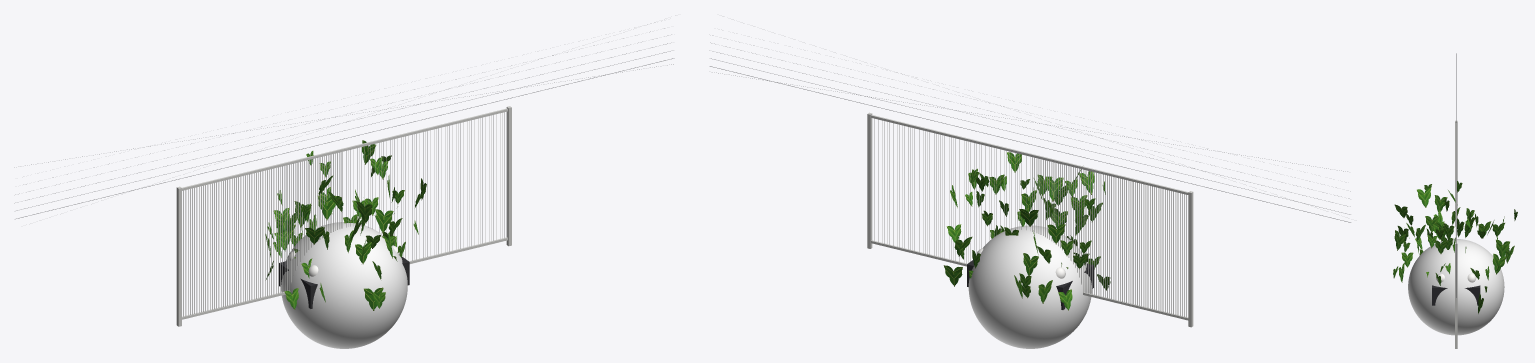
File: temporal_static.gltf
3 views of the same model, side by side, from view 1: azimuth 30°, elevation 25°; view 2: azimuth 150°, elevation 25°; view 3: azimuth 270°, elevation 25° (orthographic). The views are drawn at different scales.
Visible parts, largest first — view 1: fence, sphere_chrome, foliage_a, wires, specular_balls; view 2: fence, sphere_chrome, foliage_a, wires, specular_balls; view 3: sphere_chrome, foliage_a, fence, specular_balls, wires.
Boxes of the visible parts, left/top/right/bottom form: fence: left=176, top=106, right=511, bottom=326; sphere_chrome: left=281, top=222, right=407, bottom=348; foliage_a: left=265, top=140, right=426, bottom=310; wires: left=14, top=22, right=674, bottom=219; specular_balls: left=279, top=245, right=409, bottom=308; fence: left=867, top=112, right=1193, bottom=327; sphere_chrome: left=968, top=225, right=1091, bottom=348; foliage_a: left=943, top=152, right=1110, bottom=310; wires: left=709, top=35, right=1350, bottom=222; specular_balls: left=967, top=248, right=1093, bottom=309; sphere_chrome: left=1408, top=239, right=1504, bottom=335; foliage_a: left=1393, top=181, right=1517, bottom=313; fence: left=1455, top=120, right=1457, bottom=348; specular_balls: left=1432, top=273, right=1480, bottom=305; wires: left=1456, top=53, right=1456, bottom=297.
Size of what is drawn, in the model's own units: 12 by 4.45 by 2.8.
Materials: 6 (1 with a texture image).
